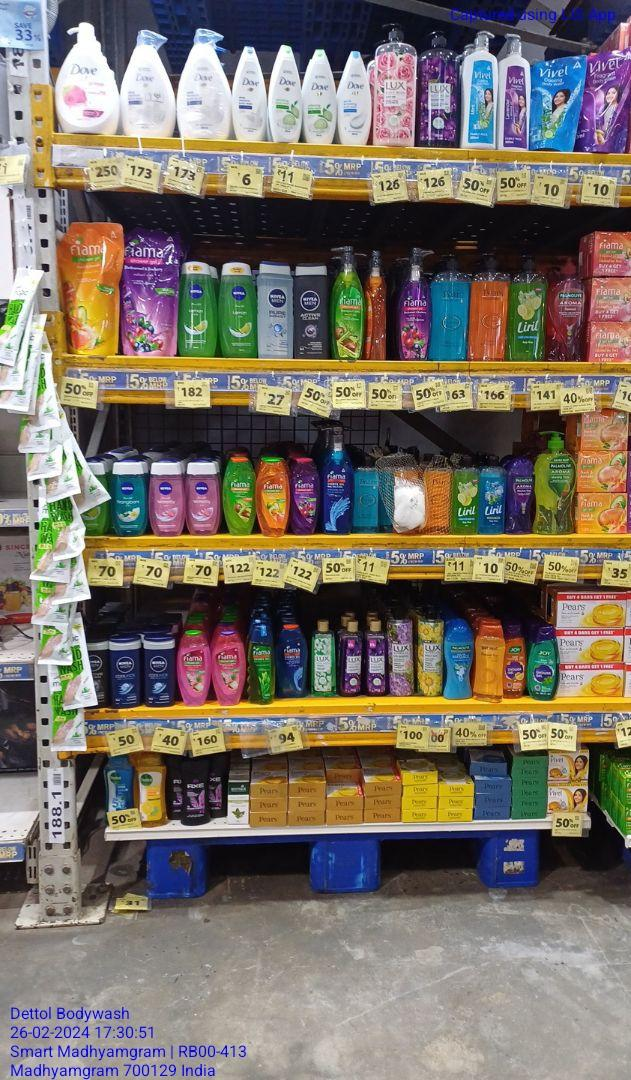Dettol_Bodywash_Cool: (105, 754, 131, 813)
Dettol_Bodywash_Refresh: (136, 750, 167, 827)
Dove_Deep_Moisture_Body_Wash_250ML: (235, 39, 266, 144)
Dove_Gentle_Exfoliating_Body_Wash_250ML: (338, 49, 371, 146)
Dove_Refreshing_Body_Wash_250ML: (271, 43, 301, 145), (304, 46, 334, 143)
Fiama_Shower_Gel_Lemongrass_and_Jojoba_250ML: (223, 455, 256, 536)
Fiama_Shower_Gel_Patchouli_and_Macadamia_250ML: (213, 630, 245, 708), (181, 627, 210, 708)
Fiama_Shower_Gel_Peach_and_Avocado_250ML: (258, 454, 289, 537)
Get_Real_Shower_Gel_Moisturising_Glycerin_300ML: (474, 621, 504, 704)
Joy_Shower_Gel_Mandarin_and_Lemongrass_250ML: (505, 625, 526, 699)
Joy_Shower_Gel_Mint_and_Eucalyptus_250ML: (530, 627, 558, 702)
Liril_Cooling_Mint_Body_Wash_250ML: (481, 454, 506, 536)
Liril_Lime_and_Tea_Tree_Oil_Body_Wash_250ML: (453, 456, 477, 539)
Lux_Black_Orchid_Scent_and_Juniper_Oil_Body_Wash_245ML: (363, 618, 388, 697), (341, 621, 361, 699)
Lux_Body_Wash_Skin_Detox_Freesia_Scent_and_Alove_Vera_245ML: (310, 620, 336, 698)
Nivea_Shower_Gel_Frangipani_and_Oil_250ML: (111, 457, 146, 539)
Nivea_Shower_Gel_Lemon_and_Oil_250ML: (221, 259, 257, 360), (182, 257, 217, 358)
Nivea_Shower_Gel_Waterlily_and_Oil_250ML: (186, 457, 219, 537), (151, 459, 183, 537)
Palmolive_Aroma_Moments_Feel_The_Massage_Shower_Gel_250ML: (445, 622, 473, 700)
Palmolive_Aroma_Relax_250ML: (508, 457, 534, 537)
